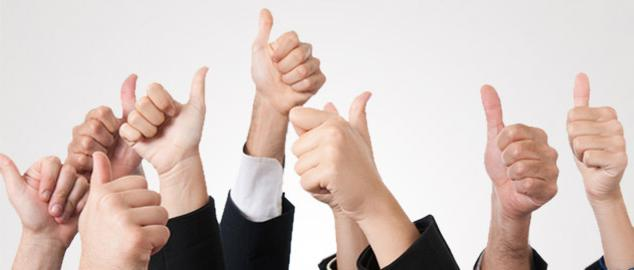thumbsup: (479, 84, 562, 211), (118, 64, 210, 163), (89, 149, 173, 256), (249, 7, 328, 106), (564, 72, 628, 187), (73, 69, 140, 174)
